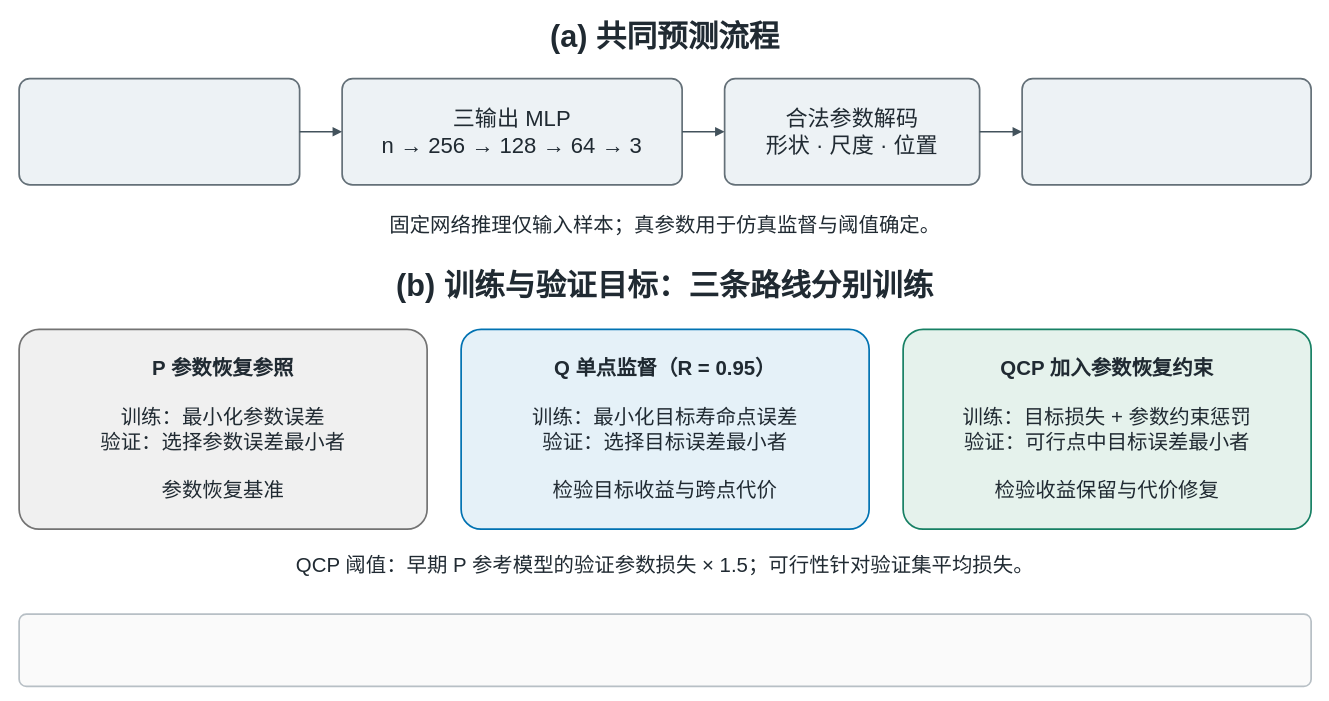
This 1329x701 diagram has some shape labels left out. Here are the shapes that lost their labels. From the top down, the centre of each, then its label:
At (x=159, y=131): "寿命样本 X 排序与标准化".
At (x=1166, y=131): "Weibull 公式 可靠度寿命点".
At (x=665, y=650): "补充对照 | QP：固定加权 · P_QSELECT：共同验证 · Q_FEAS：可行选点 · QMULTI：三点监督".
